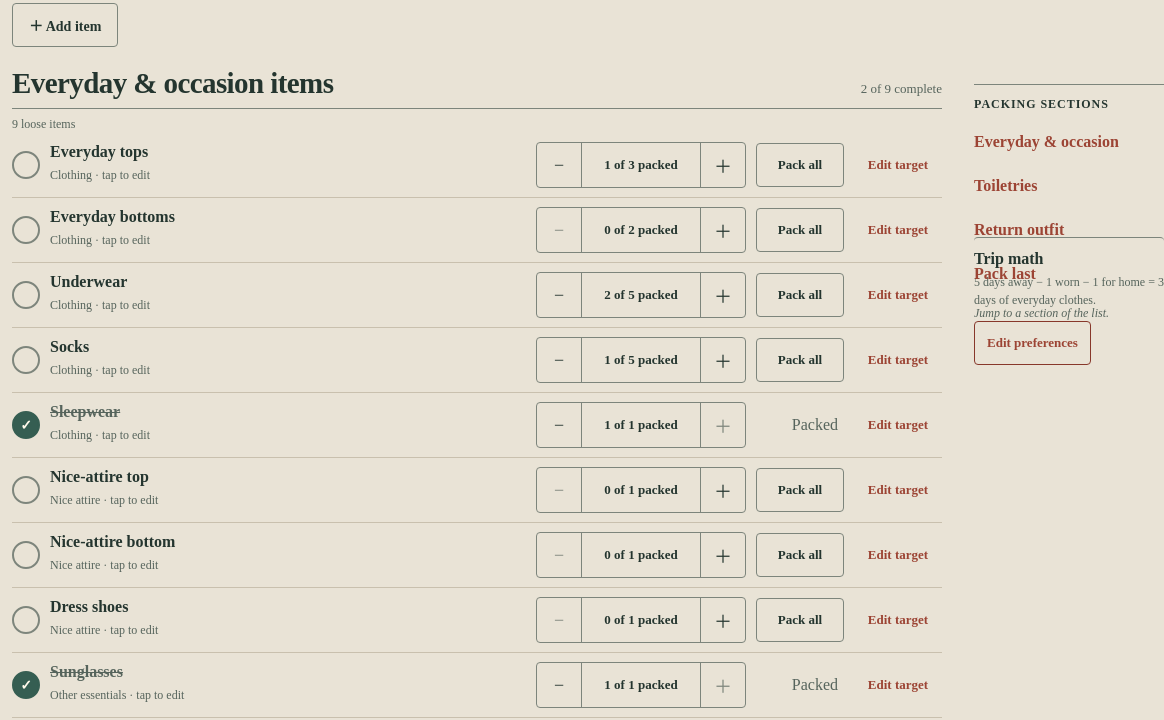
Test case: packing › keeps the tapped count on screen while a write is in flight, and sends the next one only after it finishes
(page scrolled)
Click the button named "Increase packed Socks": (723, 360) 701,338 -> 745,382
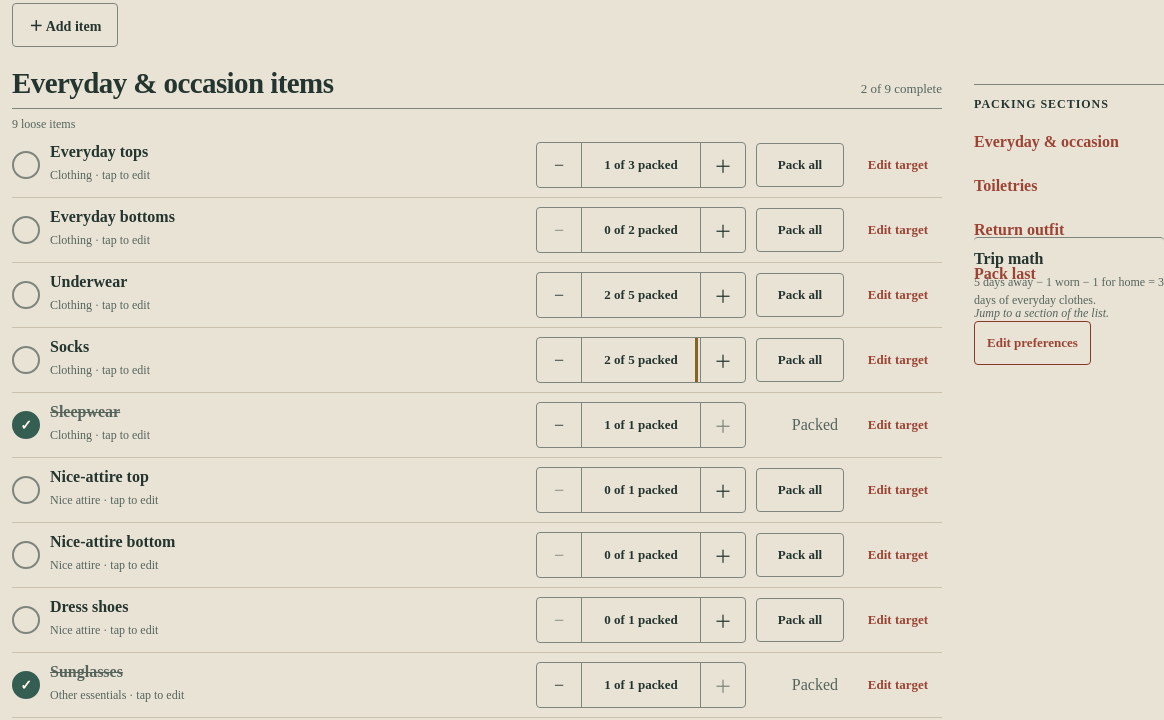
// A tap during the first write: shown at once, not sent in parallel.
Click the button named "Increase packed Socks": (723, 360) 701,338 -> 745,382
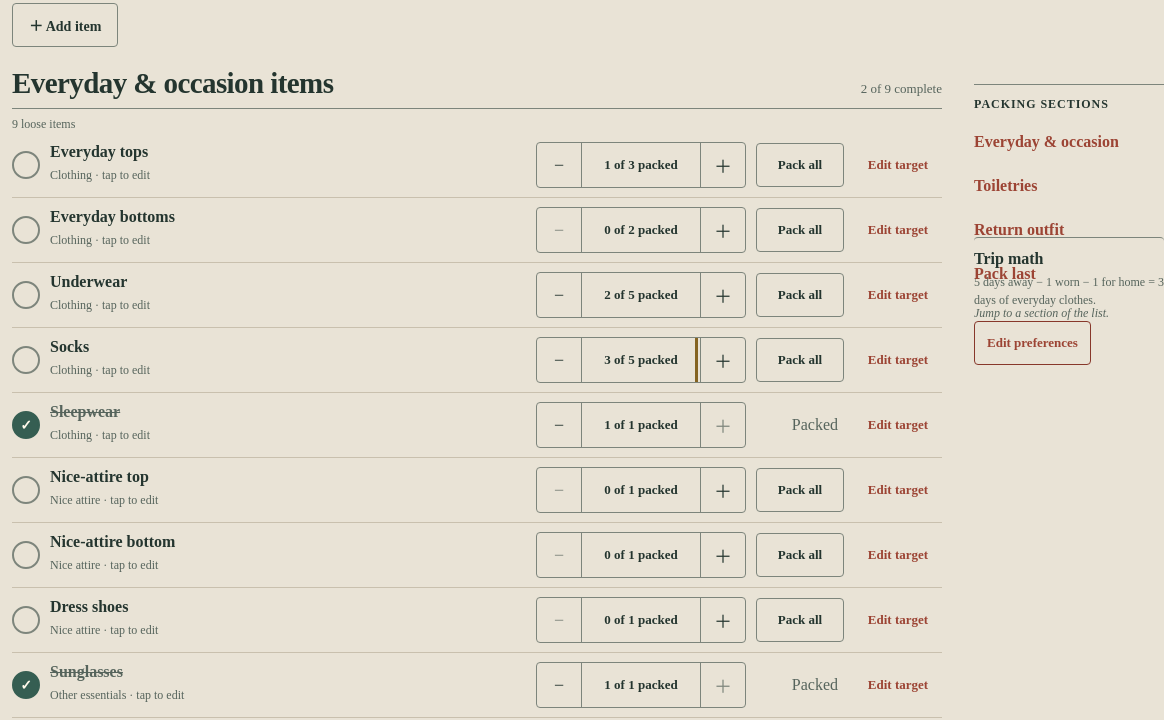
Check: the picture "3 of 5 packed" is shown, box 581,338 -> 701,382
